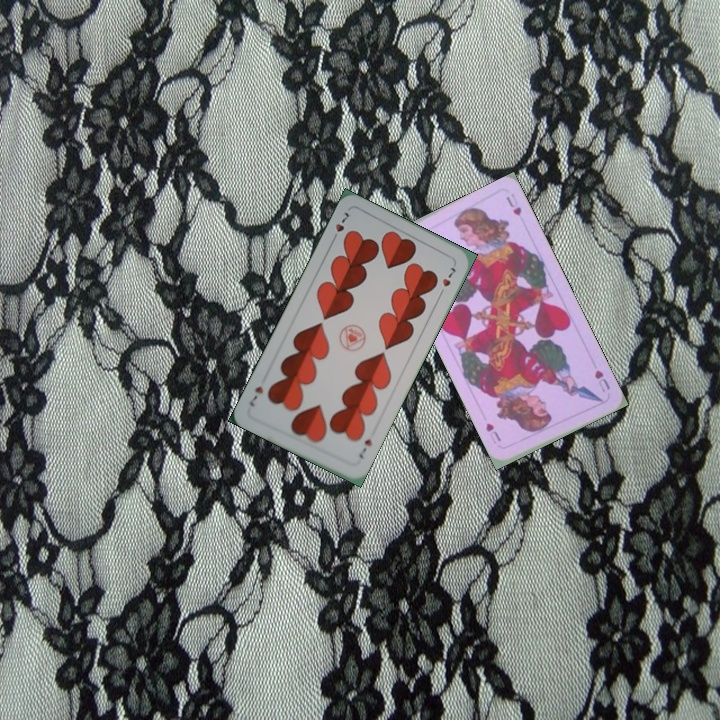H7: (328, 208, 352, 244), (354, 435, 374, 461)
HU: (590, 366, 613, 394)
